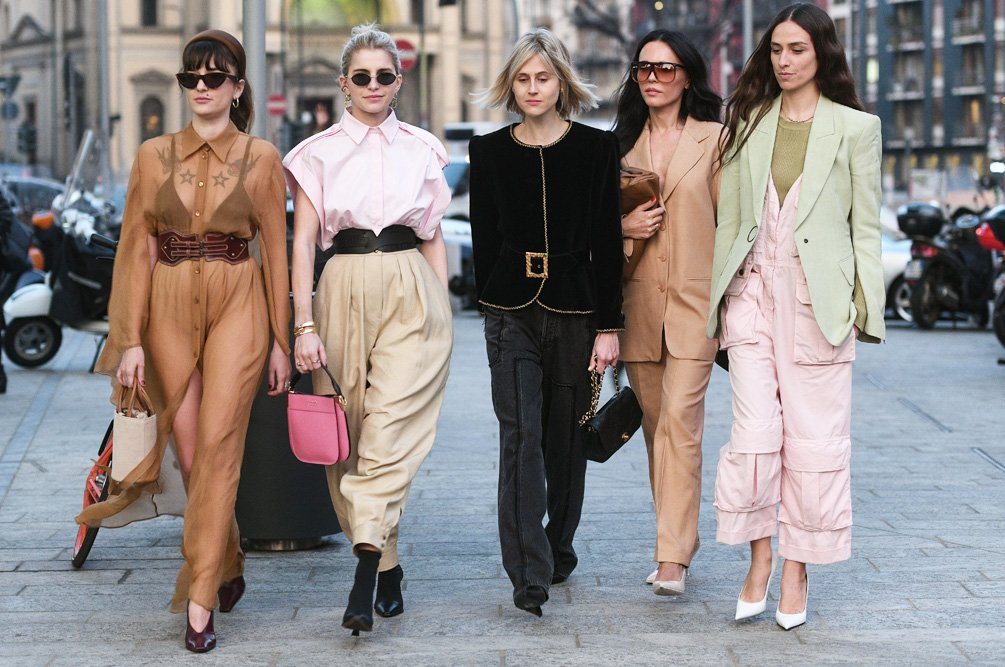Person: (81, 22, 302, 651), (272, 22, 470, 649), (713, 3, 886, 628), (460, 26, 633, 638), (608, 22, 726, 606)
